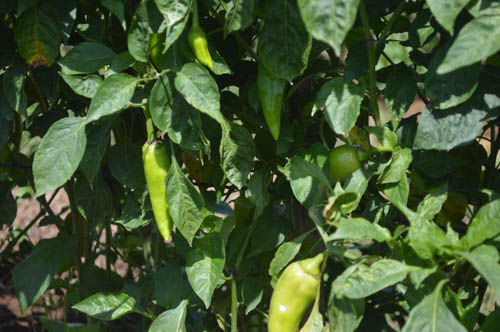ChiliPepper: (265, 265, 323, 332), (143, 141, 172, 246), (254, 66, 285, 140), (325, 146, 357, 182), (187, 32, 213, 71)
